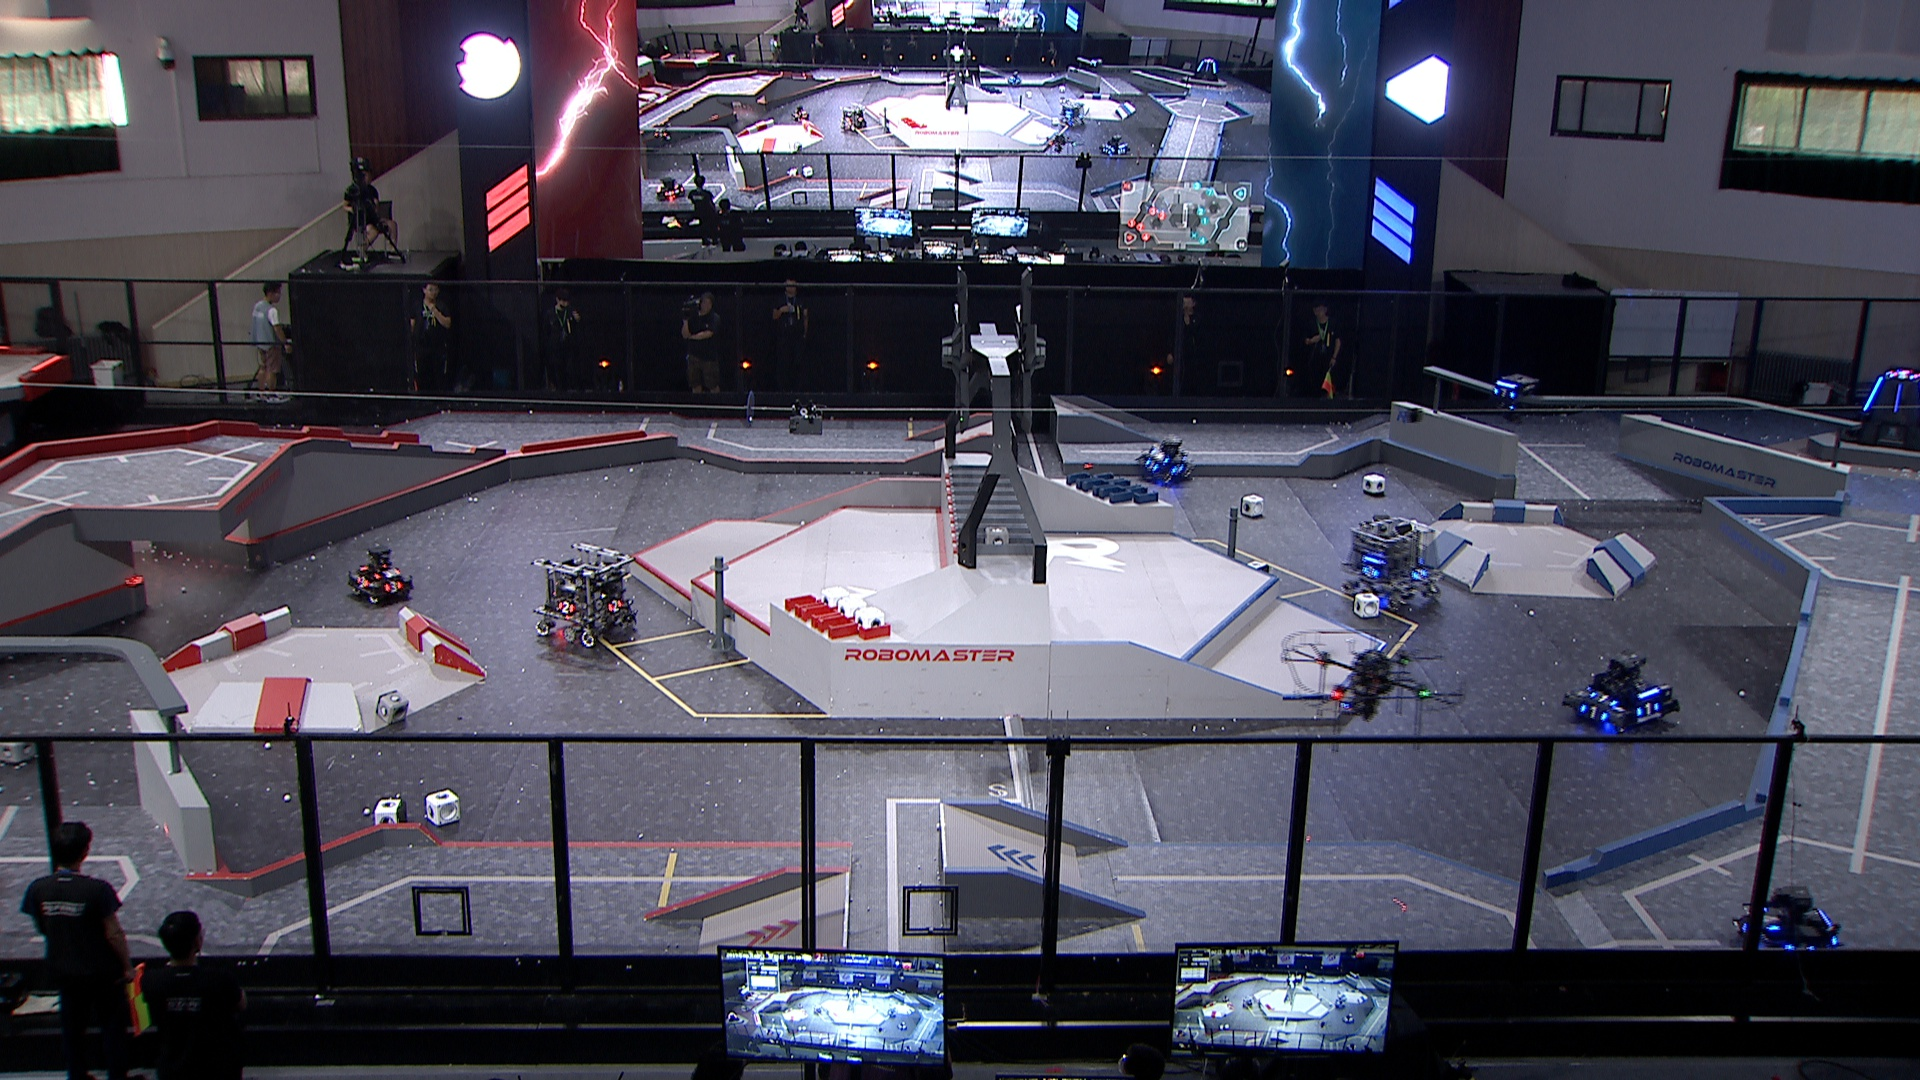armor: (1861, 376, 1884, 411), (1760, 902, 1783, 935), (1577, 702, 1609, 723), (1590, 690, 1618, 708), (1634, 702, 1660, 717), (372, 567, 404, 580), (1892, 382, 1904, 414), (556, 597, 574, 616), (382, 579, 404, 593), (1490, 386, 1515, 398), (1361, 564, 1379, 579), (1411, 567, 1429, 582), (1149, 450, 1171, 462), (1145, 458, 1162, 472), (607, 597, 622, 612), (1168, 463, 1185, 476), (356, 575, 368, 588)
base: (1846, 367, 1920, 460)
car: (529, 543, 640, 650), (1561, 647, 1675, 737), (1342, 513, 1443, 612), (1737, 882, 1842, 969), (344, 541, 414, 604), (1135, 436, 1200, 487)
ignore: (1058, 98, 1087, 131), (1189, 54, 1222, 83), (655, 174, 688, 200), (1098, 133, 1130, 160), (840, 105, 868, 133), (650, 120, 675, 142), (1888, 371, 1916, 382)
watcher: (1486, 371, 1538, 425)
